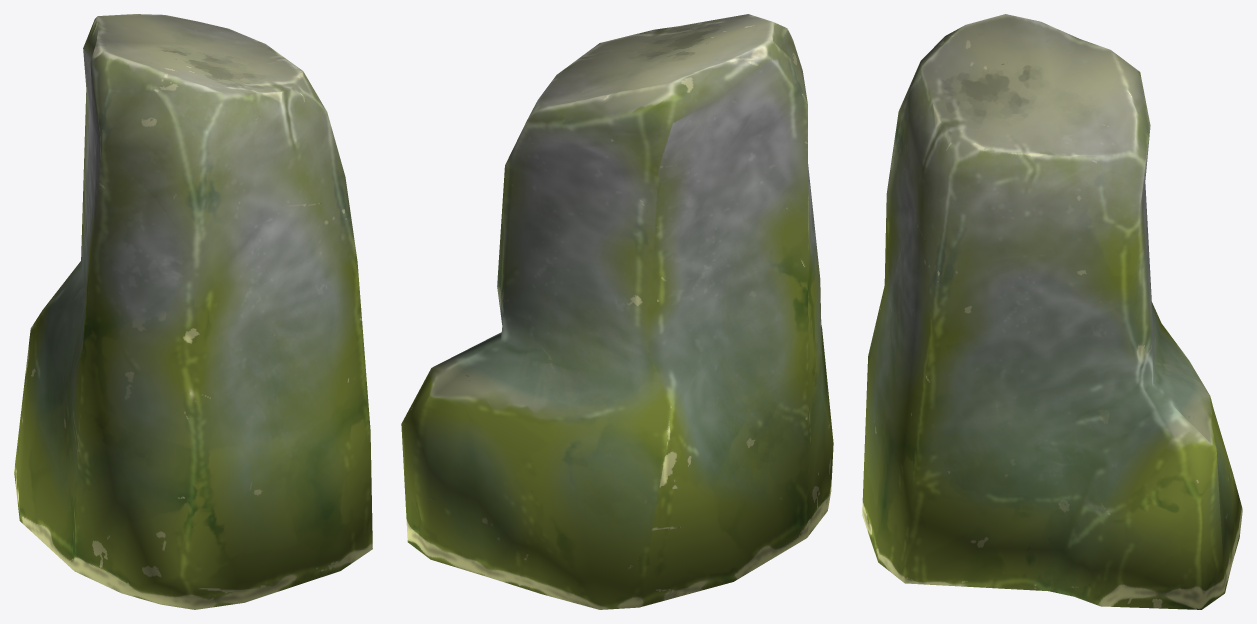
File: Prop_StoneBig.fbx
3 renders of one model, left to right at view 1: azimuth 30°, elevation 25°; view 2: azimuth 150°, elevation 25°; view 3: azimuth 270°, elevation 25°, orthographic. The views are drawn at different scales.
Visible parts, largest first — view 1: Prop_STONE_BIG; view 2: Prop_STONE_BIG; view 3: Prop_STONE_BIG.
Boxes of the visible parts, box(x1,y1,x2,y2) form: Prop_STONE_BIG: box(14, 14, 372, 609); Prop_STONE_BIG: box(401, 14, 833, 609); Prop_STONE_BIG: box(862, 14, 1242, 609).
Size of the model in its own units: 130 by 202 by 148.
Materials: 1 (1 with a texture image).
